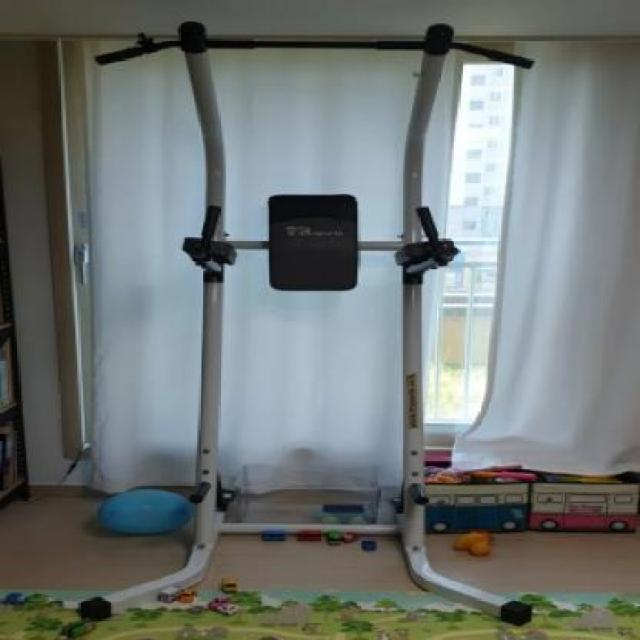chinning dipping: (80, 22, 535, 623)
